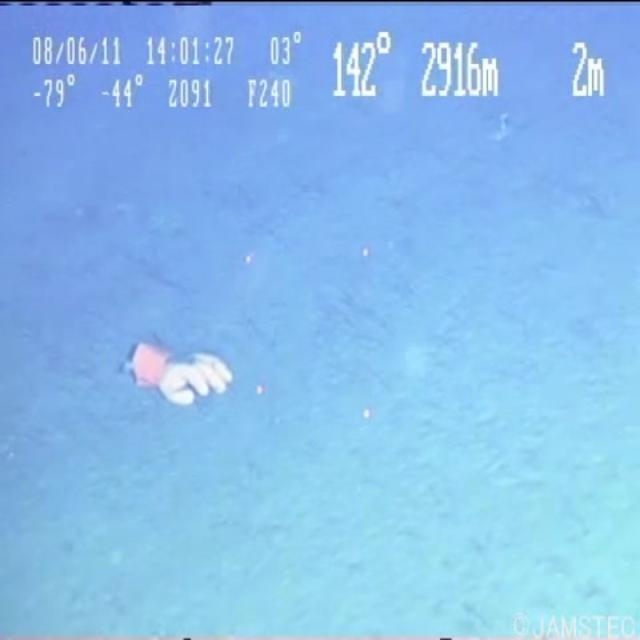Accessories: (122, 332, 245, 421)
